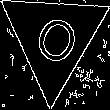O_SW: (25, 5, 82, 72)
